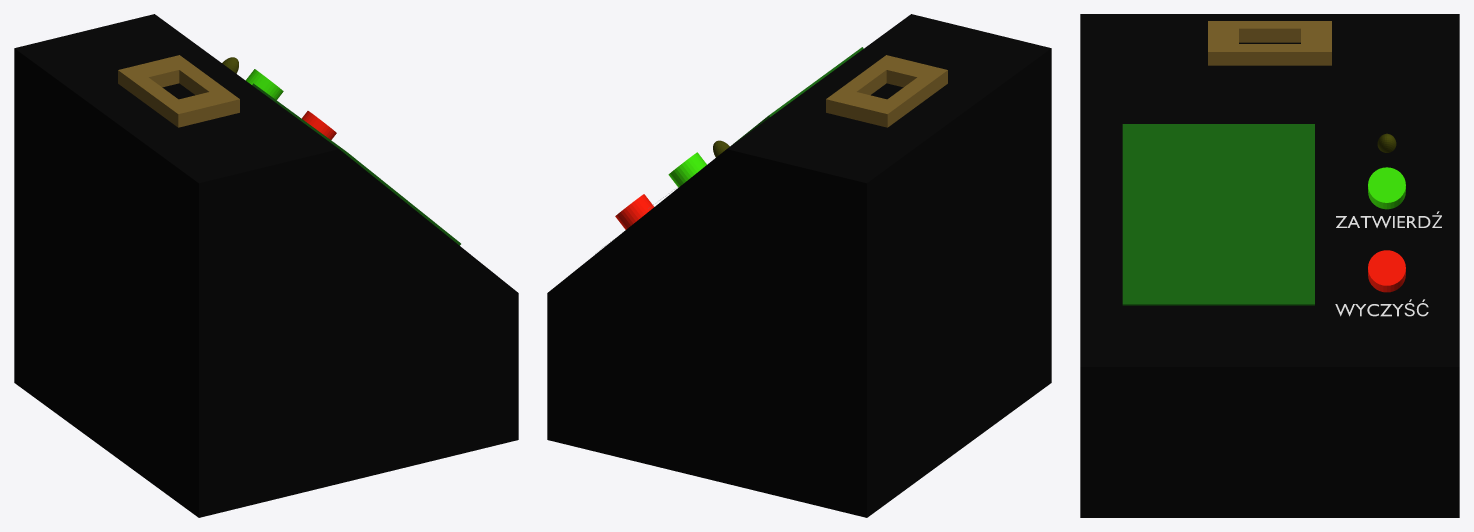
File: maszyna_liczaca.fbx
3 renders of one model, left to right at view 1: azimuth 30°, elevation 25°; view 2: azimuth 150°, elevation 25°; view 3: azimuth 270°, elevation 25°, orthographic. The views are drawn at different scales.
Parts seen in each view (by area): view 1: OBUDOWA, DZIURA, WYSWIETLACZ; view 2: OBUDOWA, DZIURA, PRZYCISK_WYCZYSC, PRZYCISK_ZATWIERDZ; view 3: OBUDOWA, WYSWIETLACZ, DZIURA, PRZYCISK_WYCZYSC, PRZYCISK_ZATWIERDZ, AKCEPTUJ, ZATWIERDZ.
Part boxes in pixels (<box>): OBUDOWA: <box>14,14,518,517</box>; DZIURA: <box>118,55,239,127</box>; WYSWIETLACZ: <box>252,83,460,245</box>; OBUDOWA: <box>547,14,1051,517</box>; DZIURA: <box>826,55,947,127</box>; PRZYCISK_WYCZYSC: <box>615,194,653,229</box>; PRZYCISK_ZATWIERDZ: <box>668,152,706,187</box>; OBUDOWA: <box>1080,14,1459,517</box>; WYSWIETLACZ: <box>1122,124,1314,305</box>; DZIURA: <box>1208,21,1331,65</box>; PRZYCISK_WYCZYSC: <box>1368,250,1405,292</box>; PRZYCISK_ZATWIERDZ: <box>1368,167,1405,209</box>; AKCEPTUJ: <box>1336,211,1441,227</box>; ZATWIERDZ: <box>1335,299,1428,316</box>.
Bounding box in the file's own units: 200 × 208 × 200.
